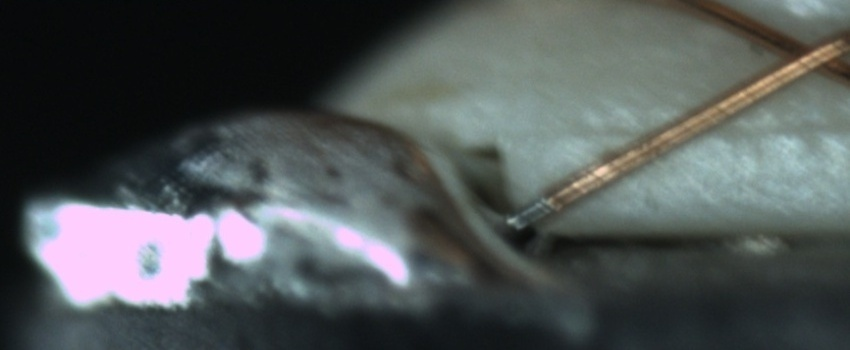CL: (751, 17, 848, 85)
DL: (547, 96, 848, 163)
TS: (506, 196, 554, 228)
